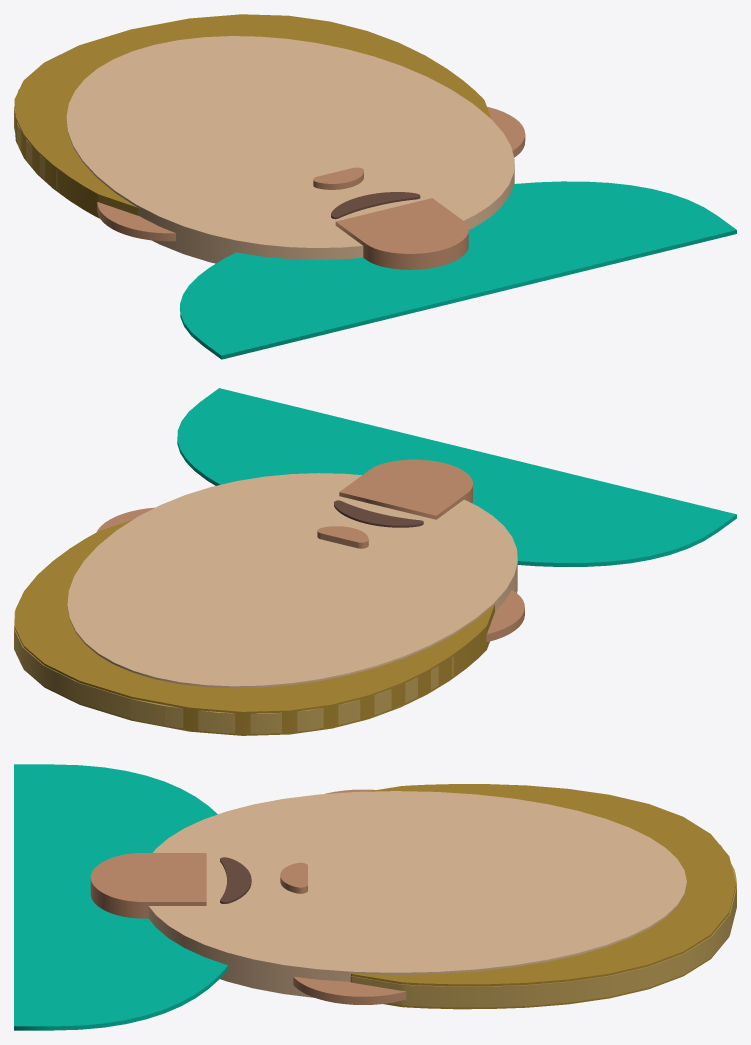
The model's file is emoji_u1f64d_1f3fc_200d_2642.glb.
3 views of the same model, one above another, from view 1: azimuth 30°, elevation 25°; view 2: azimuth 150°, elevation 25°; view 3: azimuth 270°, elevation 25° (orthographic). The views are drawn at different scales.
Visible parts, largest first — view 1: emoji_u1f64d_1f3fc_200d_2642; view 2: emoji_u1f64d_1f3fc_200d_2642; view 3: emoji_u1f64d_1f3fc_200d_2642.
Boxes of the visible parts, x1,y1,x2,y2 form: emoji_u1f64d_1f3fc_200d_2642: (14,14,736,359); emoji_u1f64d_1f3fc_200d_2642: (14,388,736,735); emoji_u1f64d_1f3fc_200d_2642: (14,764,736,1030).
Bounding box in the file's own units: 0.0271 × 0.002 × 0.0316.
